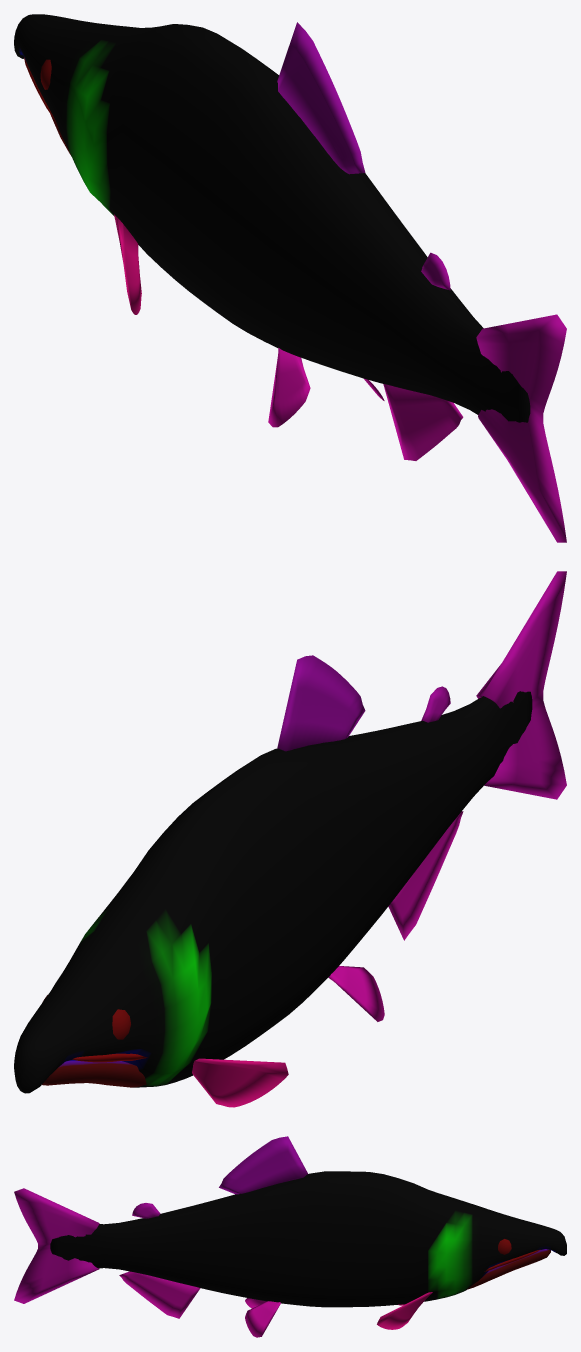
File: sockeye_spawner_lo.glb
3 views of the same model, one above another, from view 1: azimuth 30°, elevation 25°; view 2: azimuth 150°, elevation 25°; view 3: azimuth 270°, elevation 25° (orthographic). The views are drawn at different scales.
Visible parts, largest first — view 1: sockeye_spawner_lo; view 2: sockeye_spawner_lo; view 3: sockeye_spawner_lo.
Boxes of the visible parts, x1,y1,x2,y2 form: sockeye_spawner_lo: [14, 14, 566, 542]; sockeye_spawner_lo: [14, 571, 566, 1107]; sockeye_spawner_lo: [14, 1136, 566, 1337].
Size of the model in its own units: 0.1001 by 0.2234 by 0.5966.
